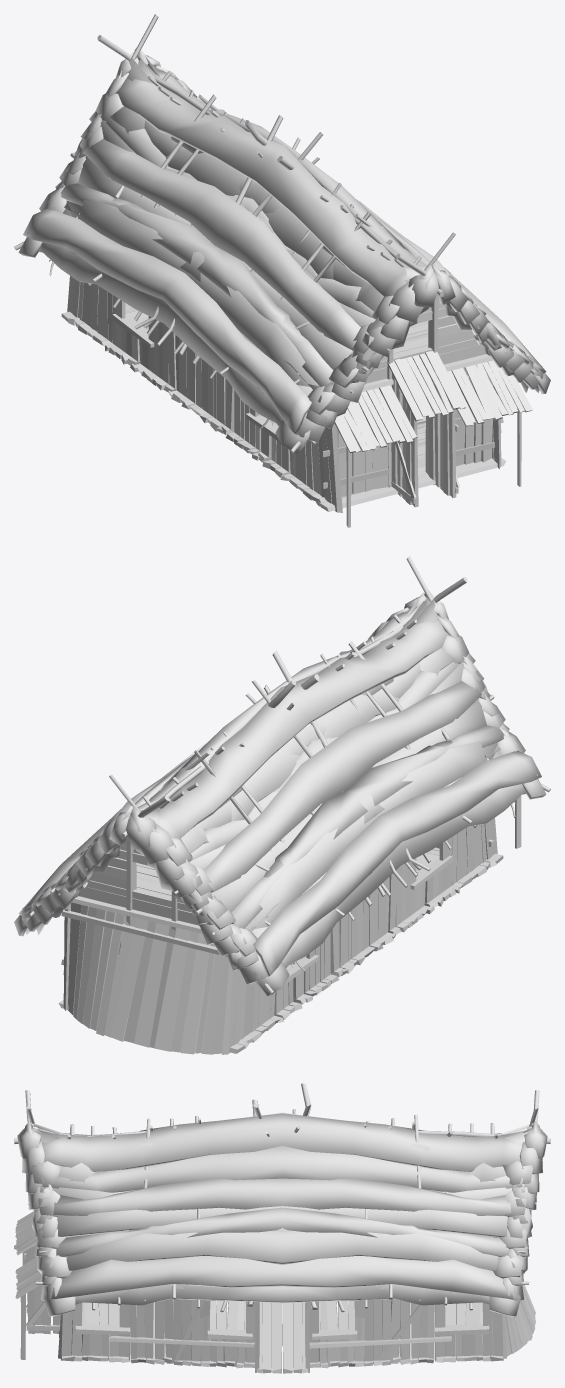
Rendered from lod1_long_house_34fda814.glb.
3 views of the same model, one above another, from view 1: azimuth 30°, elevation 25°; view 2: azimuth 150°, elevation 25°; view 3: azimuth 270°, elevation 25° (orthographic). The views are drawn at different scales.
Parts seen in each view (by area): view 1: thatch_with_opacity.001, barn.001; view 2: thatch_with_opacity.001, barn.001; view 3: thatch_with_opacity.001, barn.001.
Part boxes in pixels (bbox=[...]): thatch_with_opacity.001: bbox=[18, 47, 550, 454]; barn.001: bbox=[14, 14, 536, 527]; thatch_with_opacity.001: bbox=[14, 589, 546, 996]; barn.001: bbox=[28, 556, 550, 1054]; thatch_with_opacity.001: bbox=[17, 1112, 547, 1316]; barn.001: bbox=[14, 1083, 550, 1373].
Size of the model in its own units: 2833 by 2697 by 5578.
Materials: 2 (1 with a texture image).
